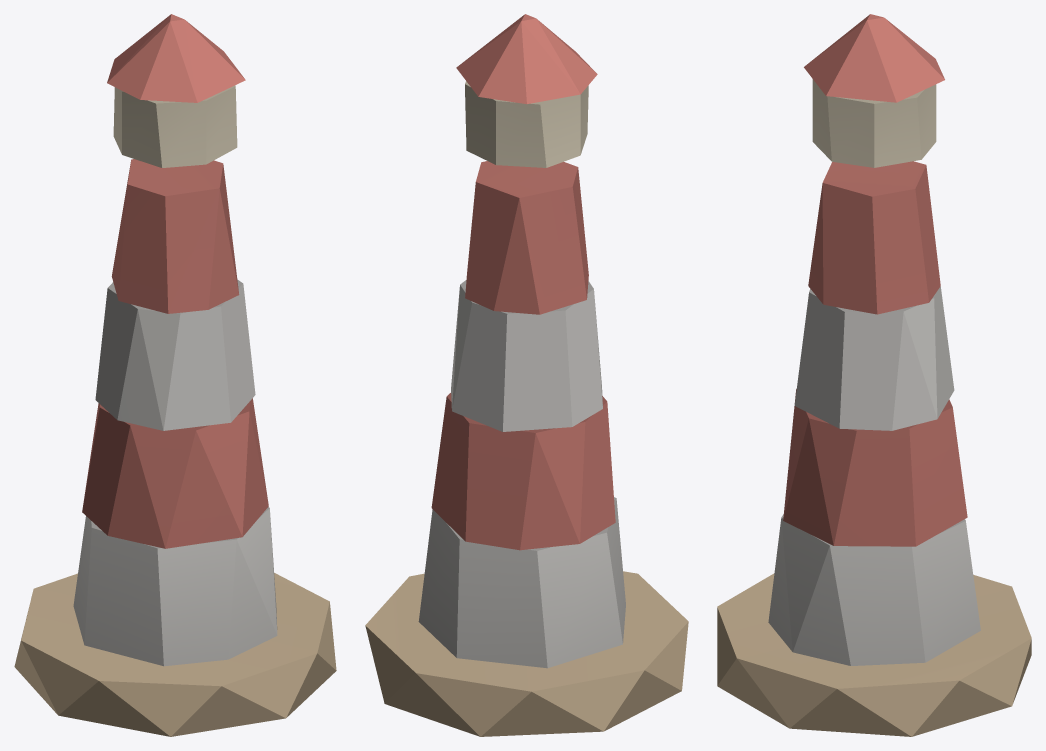
Rendered from furn_mini_lighthouse__classic_low.glb.
The picture shows the model from 3 angles, left to right: view 1: azimuth 30°, elevation 25°; view 2: azimuth 150°, elevation 25°; view 3: azimuth 270°, elevation 25°; orthographic projection.
Bounding box in the file's own units: 0.356 × 0.8156 × 0.356.
